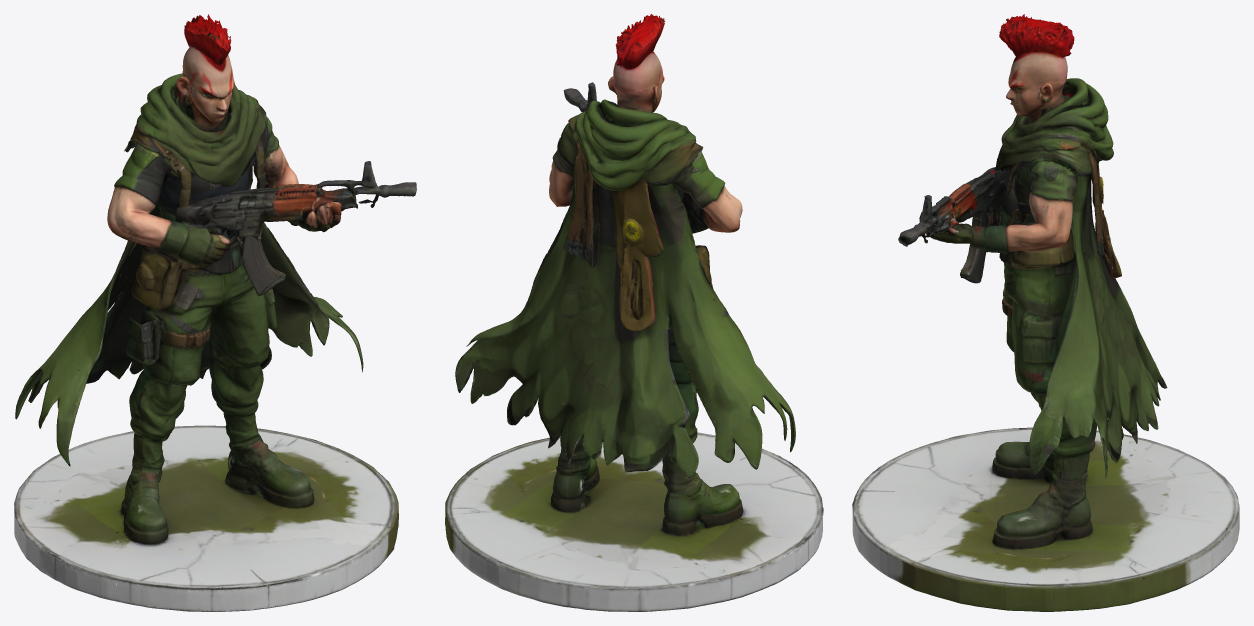
File: Warrior_Sentinel.glb
3 views of the same model, side by side, from view 1: azimuth 30°, elevation 25°; view 2: azimuth 150°, elevation 25°; view 3: azimuth 270°, elevation 25° (orthographic).
Bounding box in the file's own units: 1.32 × 1.97 × 1.34.
1 material, 1 textured.
